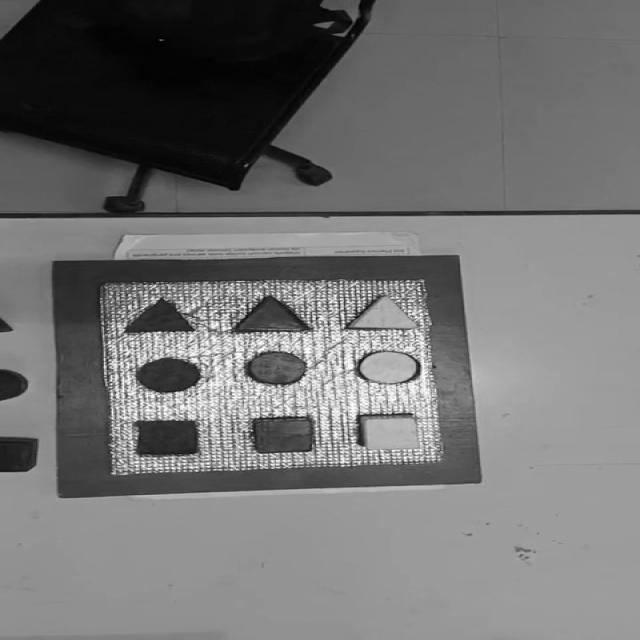bcircle: (0, 369, 29, 402)
bcube: (0, 437, 39, 473)
mtcircle: (135, 356, 203, 393)
mtcube: (134, 419, 202, 456)
mttriangle: (123, 297, 199, 334)
wb: (98, 279, 446, 475)
ycircle: (355, 350, 420, 384), (247, 351, 308, 385)
ycube: (252, 416, 316, 454), (358, 414, 422, 451)
ytriangle: (234, 296, 312, 332), (345, 295, 422, 331)
